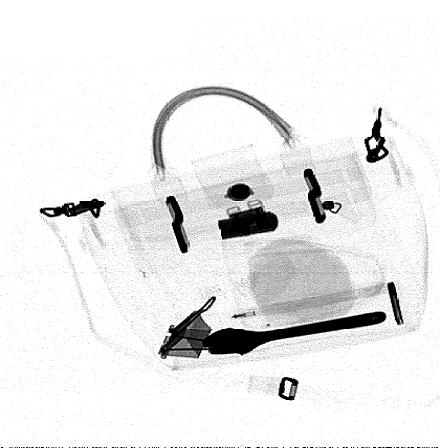Wrench: (200, 310, 388, 358)
